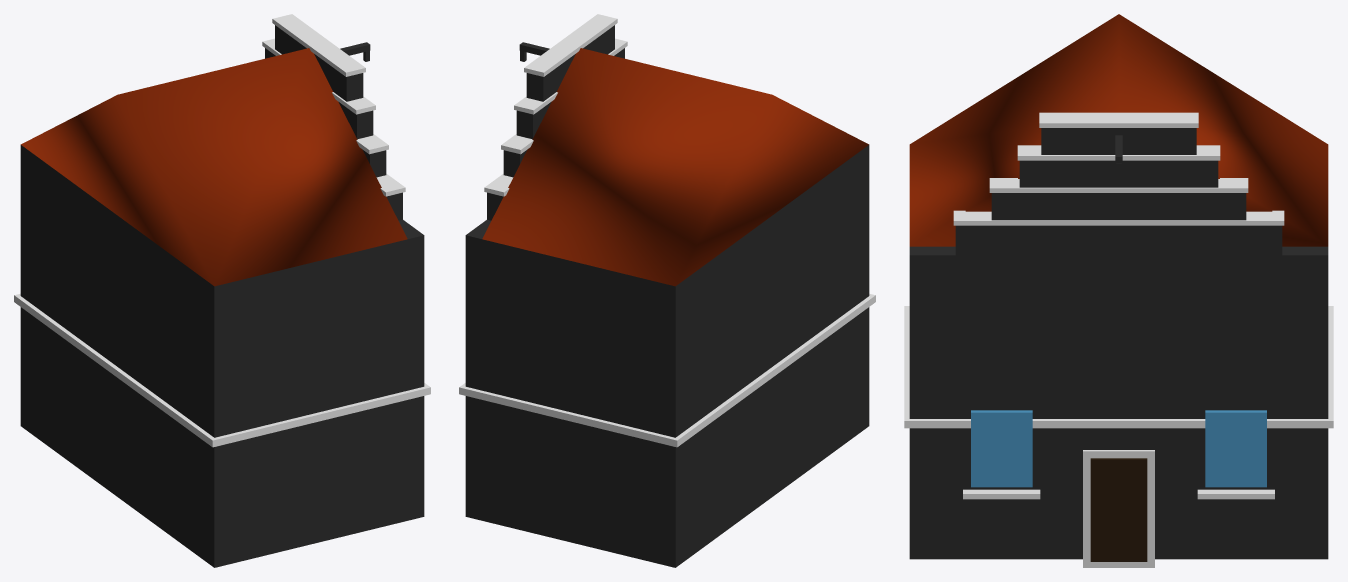
The model's file is house2.glb.
3 renders of one model, left to right at view 1: azimuth 30°, elevation 25°; view 2: azimuth 150°, elevation 25°; view 3: azimuth 270°, elevation 25°, orthographic. The views are drawn at different scales.
Size of the model in its own units: 3.1 by 4.76 by 4.17.
